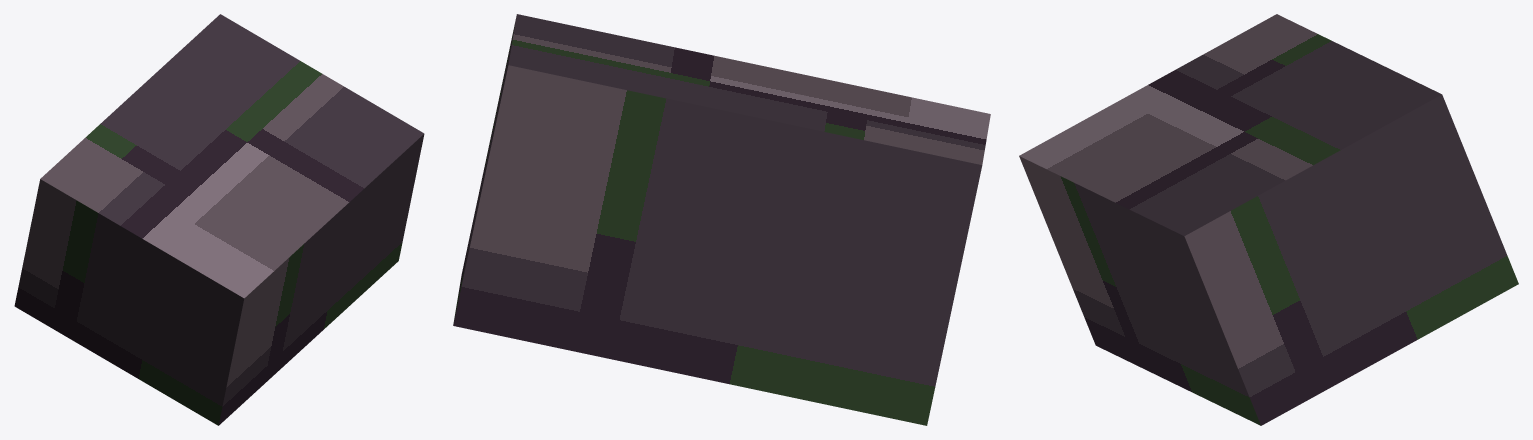
Rendered from void_shard.glb.
3 views of the same model, side by side, from view 1: azimuth 30°, elevation 25°; view 2: azimuth 150°, elevation 25°; view 3: azimuth 270°, elevation 25° (orthographic). The views are drawn at different scales.
Parts seen in each view (by area): view 1: void_shard; view 2: void_shard; view 3: void_shard.
Boxes of the visible parts, box(x1,y1,x2,y2) form: void_shard: box(14, 14, 424, 425); void_shard: box(453, 14, 990, 425); void_shard: box(1019, 14, 1518, 425).
Bounding box in the file's own units: 1.14 × 0.8458 × 1.14.
2 materials, 1 textured.
